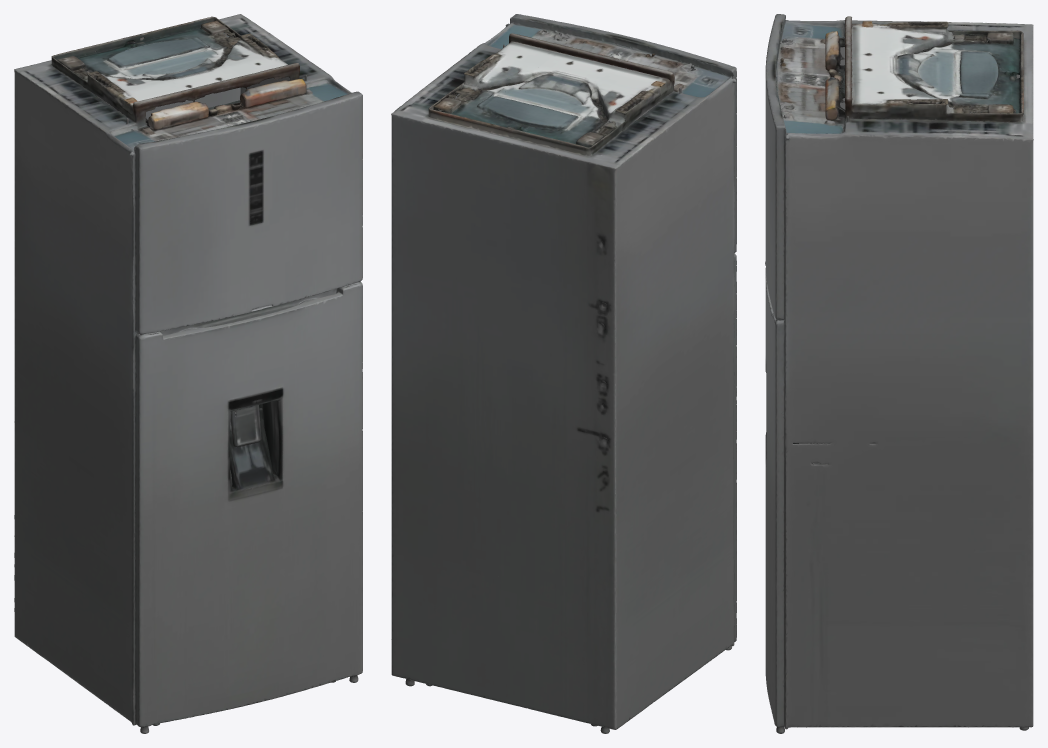
File: 01_refrigerator_0.glb
3 renders of one model, left to right at view 1: azimuth 30°, elevation 25°; view 2: azimuth 150°, elevation 25°; view 3: azimuth 270°, elevation 25°, orthographic. The views are drawn at different scales.
Parts seen in each view (by area): view 1: world; view 2: world; view 3: world.
Part boxes in pixels (bbox=[...]): world: bbox=[14, 14, 362, 733]; world: bbox=[391, 14, 736, 733]; world: bbox=[765, 14, 1033, 733].
Size of the model in its own units: 0.4062 by 1 by 0.3917.
1 material, 1 textured.
